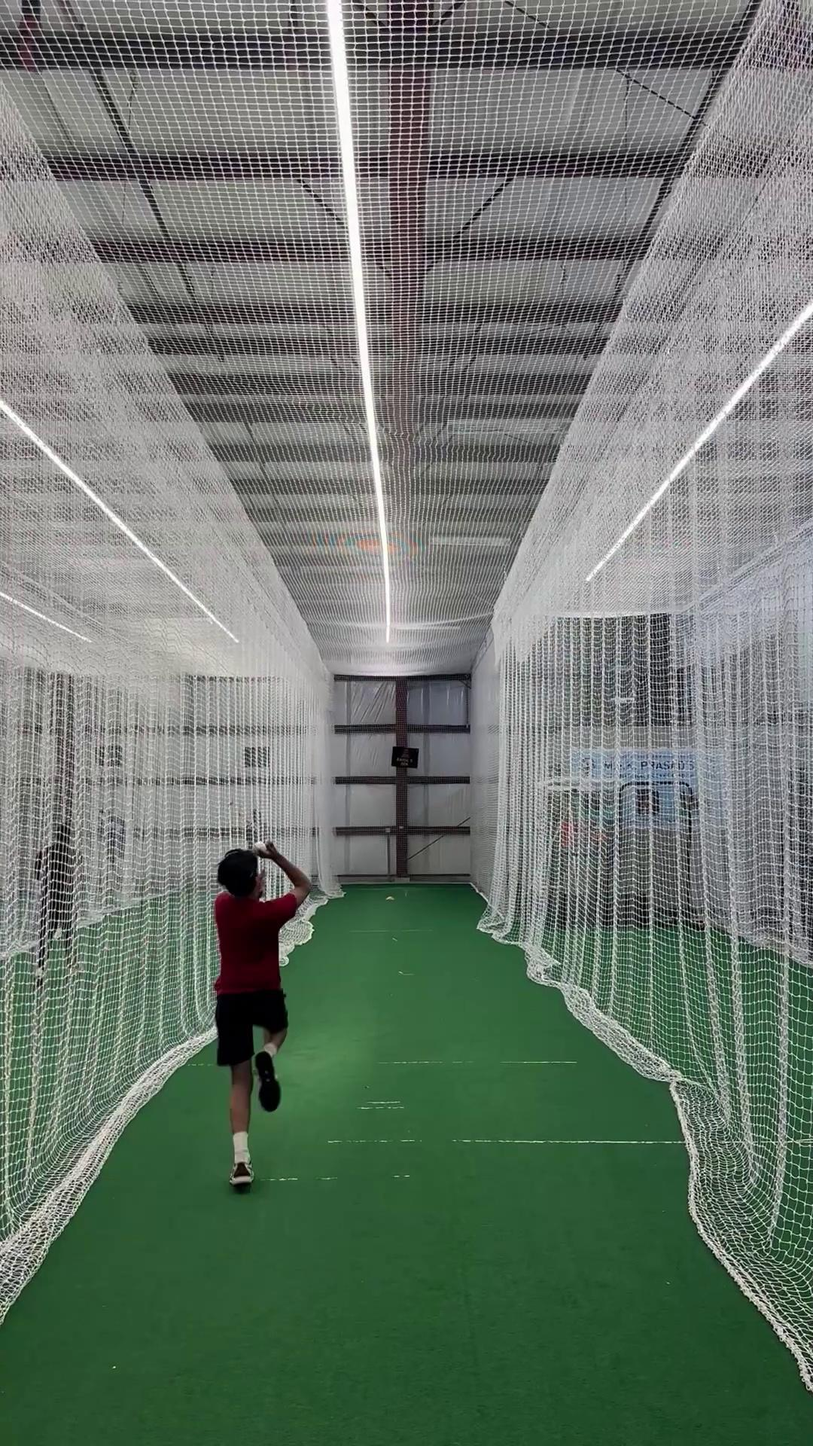ball: (248, 836, 272, 861)
